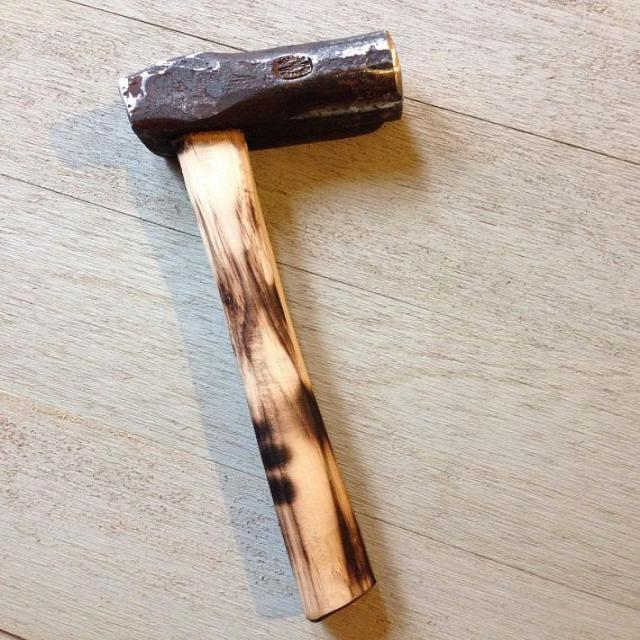hammer: (116, 18, 446, 630)
